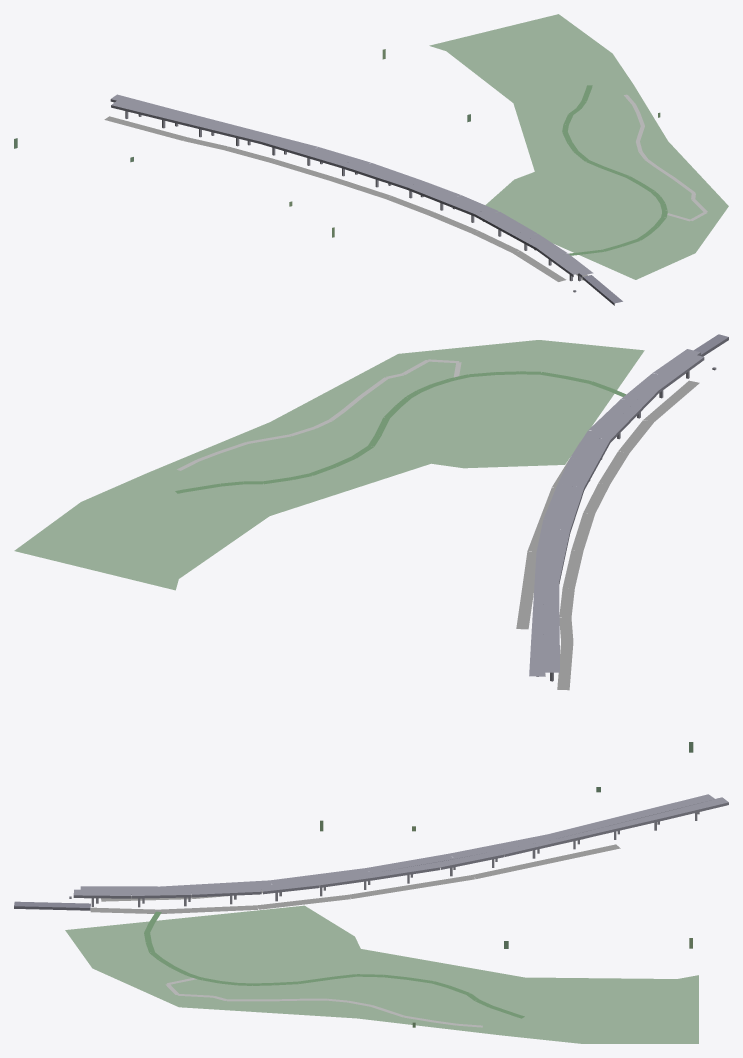
3 renders of one model, top to bottom at view 1: azimuth 30°, elevation 25°; view 2: azimuth 150°, elevation 25°; view 3: azimuth 270°, elevation 25°, orthographic. The views are drawn at different scales.
Bounding box in the file's own units: 446 × 11.01 × 464.
